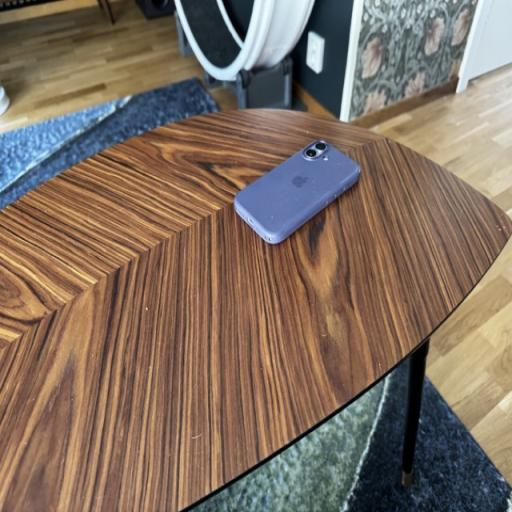phone: (224, 143, 374, 251)
